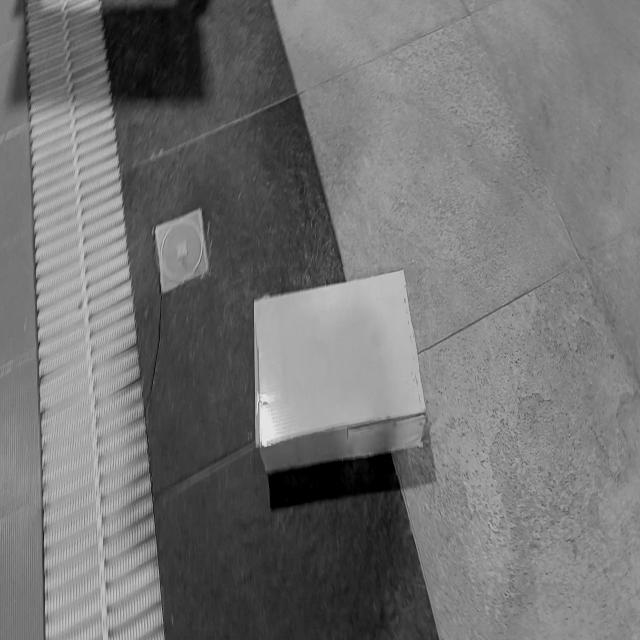Cuboid: (253, 267, 428, 475)
